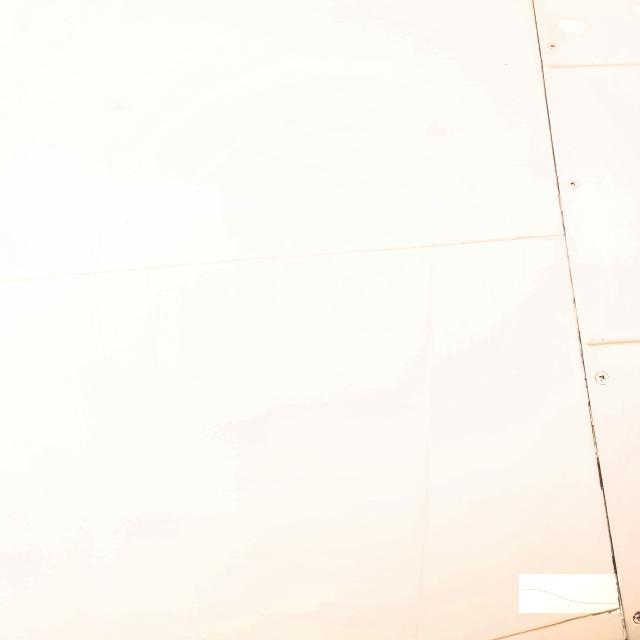crack: (520, 575, 621, 614)
